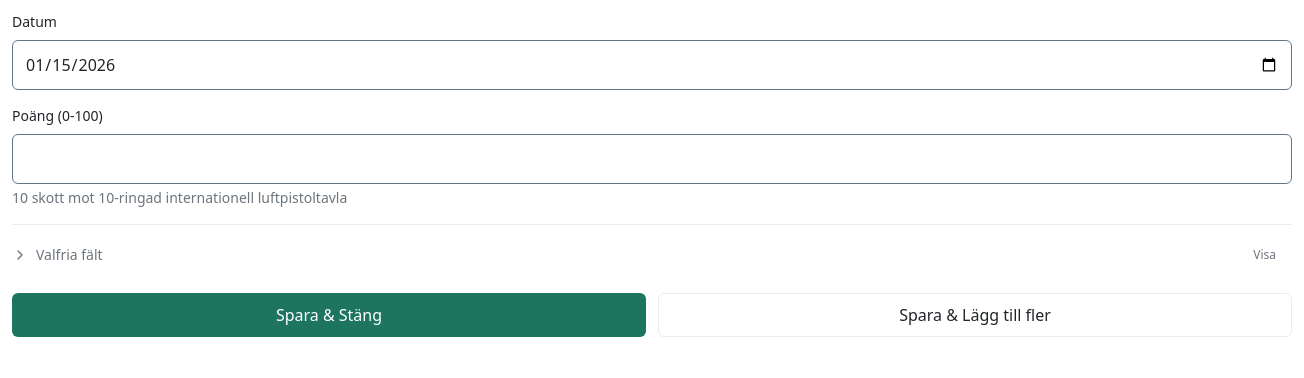
Scenario: AirPistolPrecisionForm › validation › shows error when date is empty
The width and height of the screenshot is (1304, 378).
Clear the date field named "Datum för luftpistolserie" at (652, 65), box [12,40,1292,90]
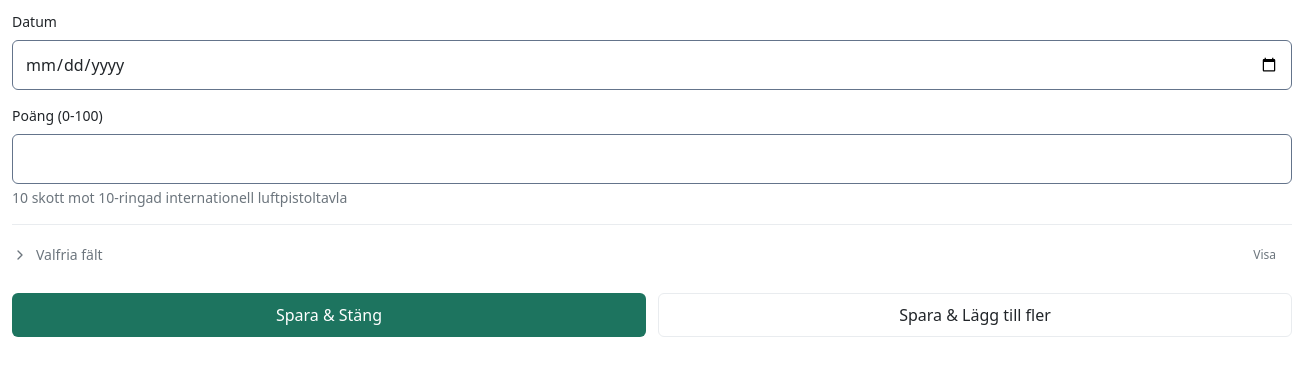
Click the button "Spara & Stäng" at (329, 315), box [12,293,646,337]
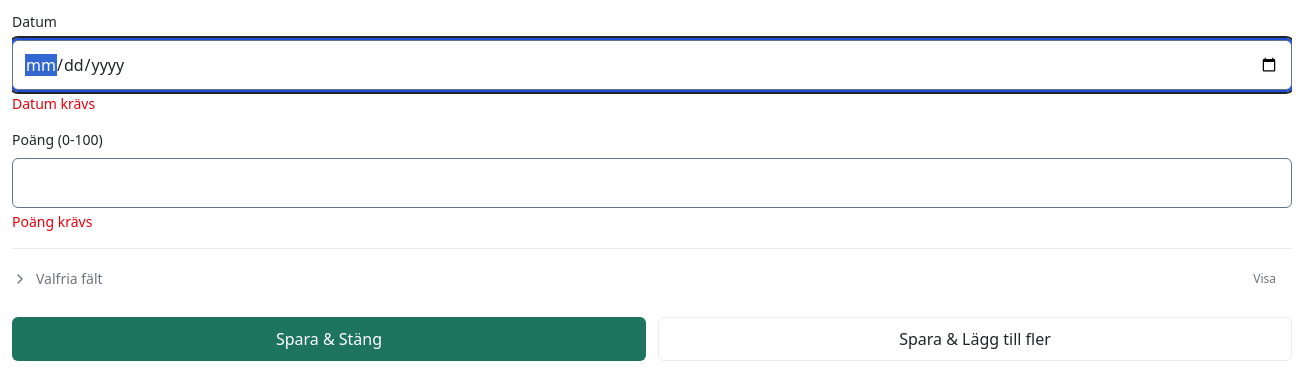
Now the text "Datum krävs" is shown, box [12,94,95,113]
